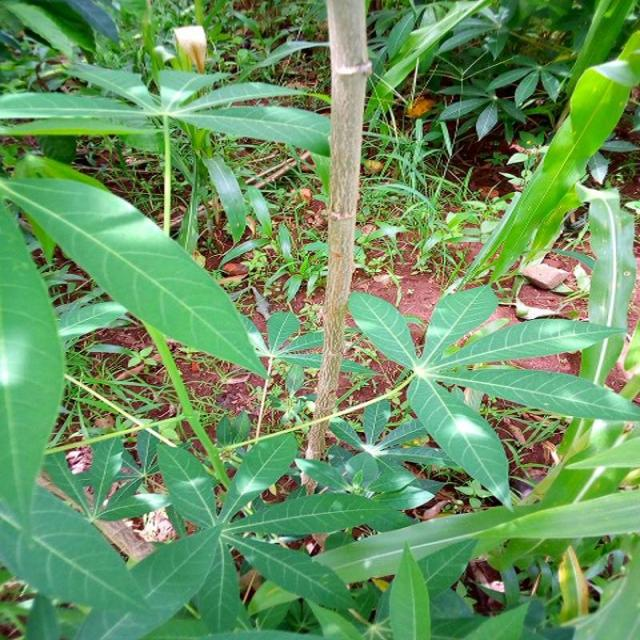cassava leaf: (1, 170, 270, 380), (451, 28, 638, 291)
